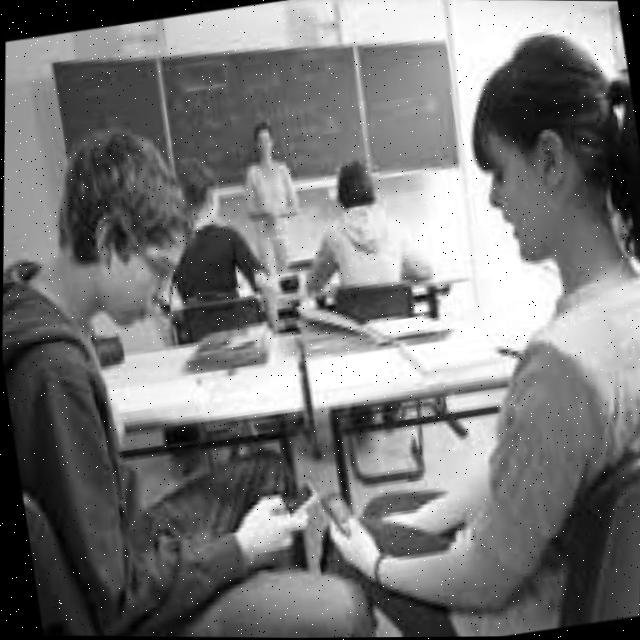phone: (315, 487, 354, 541), (281, 478, 321, 521)
